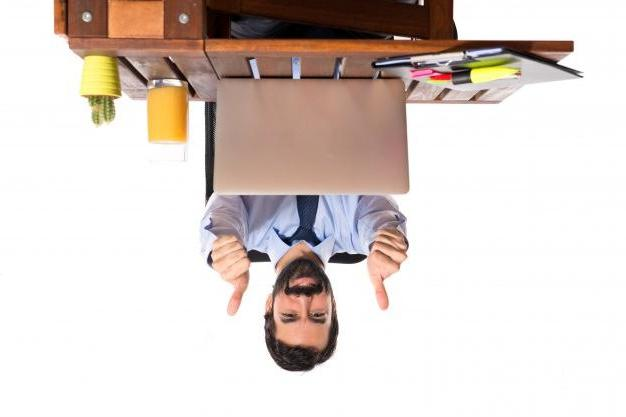thumbsdown: (211, 235, 251, 317), (371, 229, 408, 311)
